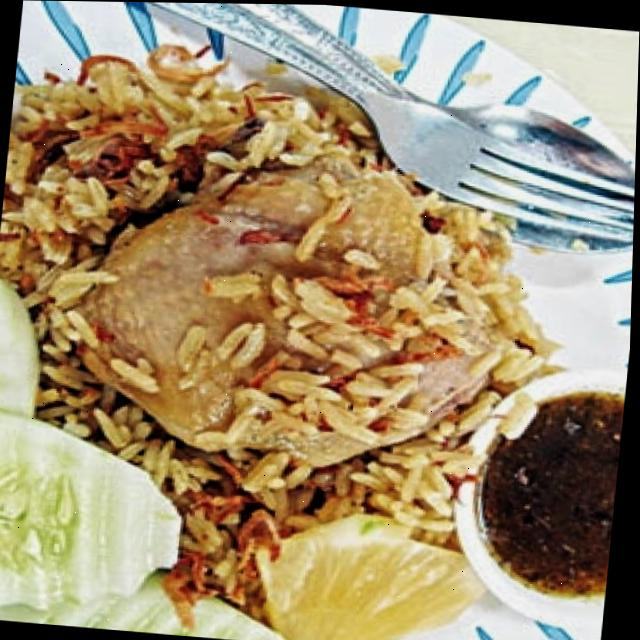米饭主食: (0, 36, 630, 640)
